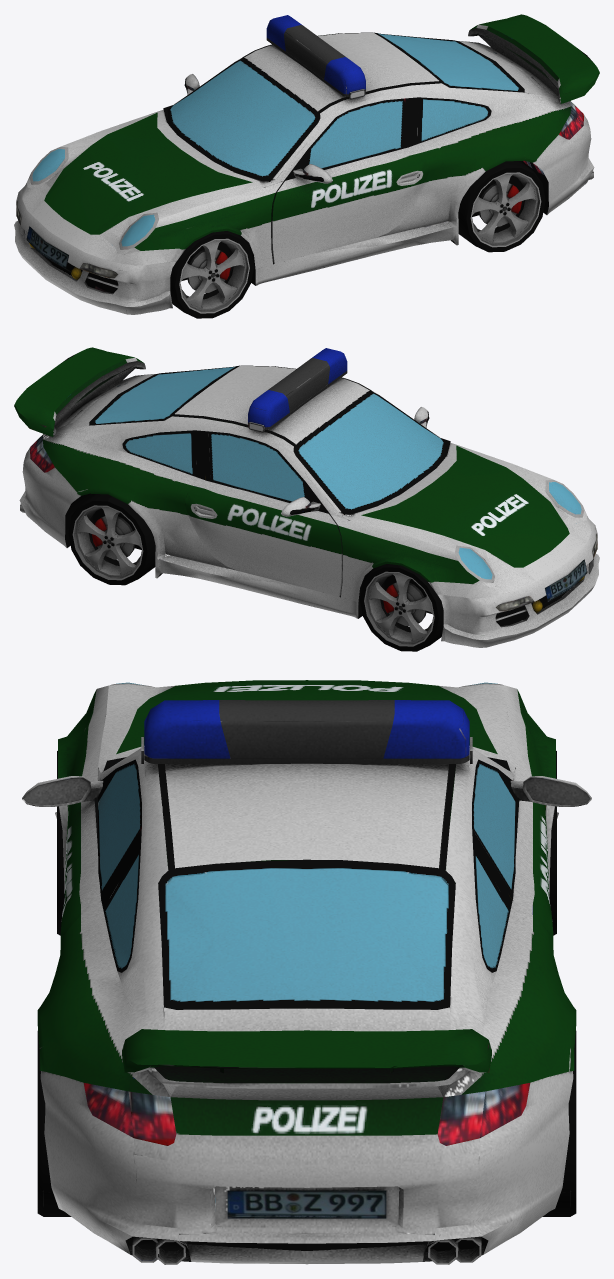
File: turbo_polizei.fbx
The picture shows the model from 3 angles, top to bottom: view 1: azimuth 30°, elevation 25°; view 2: azimuth 150°, elevation 25°; view 3: azimuth 270°, elevation 25°; orthographic projection. The views are drawn at different scales.
Visible parts, largest first — view 1: coche, rueda.04, rueda.02; view 2: coche, rueda.03, rueda.01; view 3: coche, rueda.04, rueda.03, rueda.02, rueda.01.
Boxes of the visible parts, x1,y1,x2,y2 form: coche: (14,14,599,314); rueda.04: (458,161,545,252); rueda.02: (170,231,254,318); coche: (14,347,599,647); rueda.03: (68,494,155,585); rueda.01: (359,564,443,651); coche: (22,680,591,1264); rueda.04: (37,1031,71,1216); rueda.03: (542,1031,576,1216); rueda.02: (57,751,64,935); rueda.01: (549,751,556,935).
Bounding box in the file's own units: 581 × 202 × 274.
